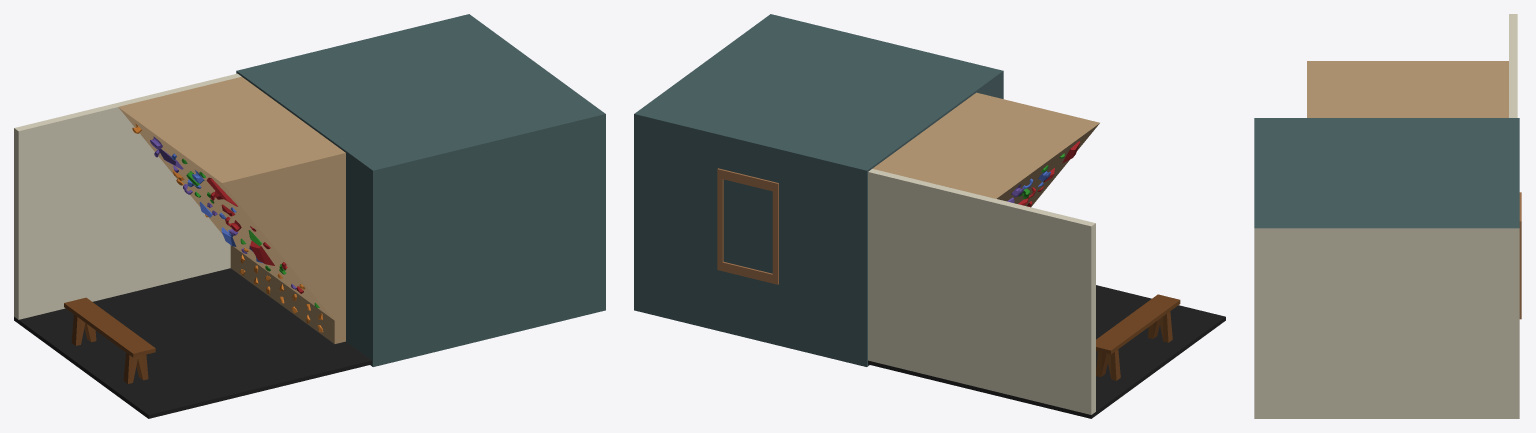
The model's file is portfolioRoomRegrouped.glb.
3 renders of one model, left to right at view 1: azimuth 30°, elevation 25°; view 2: azimuth 150°, elevation 25°; view 3: azimuth 270°, elevation 25°, orthographic. The views are drawn at different scales.
Visible parts, largest first — view 1: Cube, Structure2, ClimbingWall, Bench, RedHolds, OrangeHolds, PurpleHolds; view 2: Cube, Structure2, ClimbingWall, Bench, Structure; view 3: Cube, ClimbingWall, Structure2, Structure.
Part boxes in pixels (x1,y1,x2,y2): Cube: (236, 14, 605, 366); Structure2: (14, 73, 371, 418); ClimbingWall: (118, 76, 345, 343); Bench: (64, 297, 155, 383); RedHolds: (206, 177, 303, 293); OrangeHolds: (132, 123, 323, 332); PurpleHolds: (150, 136, 296, 289); Cube: (634, 14, 1003, 366); Structure2: (868, 169, 1225, 418); ClimbingWall: (872, 92, 1099, 207); Bench: (1096, 294, 1180, 380); Structure: (717, 168, 778, 284); Cube: (1254, 118, 1519, 418); ClimbingWall: (1307, 61, 1508, 117); Structure2: (1509, 14, 1517, 117); Structure: (1519, 192, 1521, 319).
Size of the model in its own units: 6.17 by 2.54 by 3.22.
